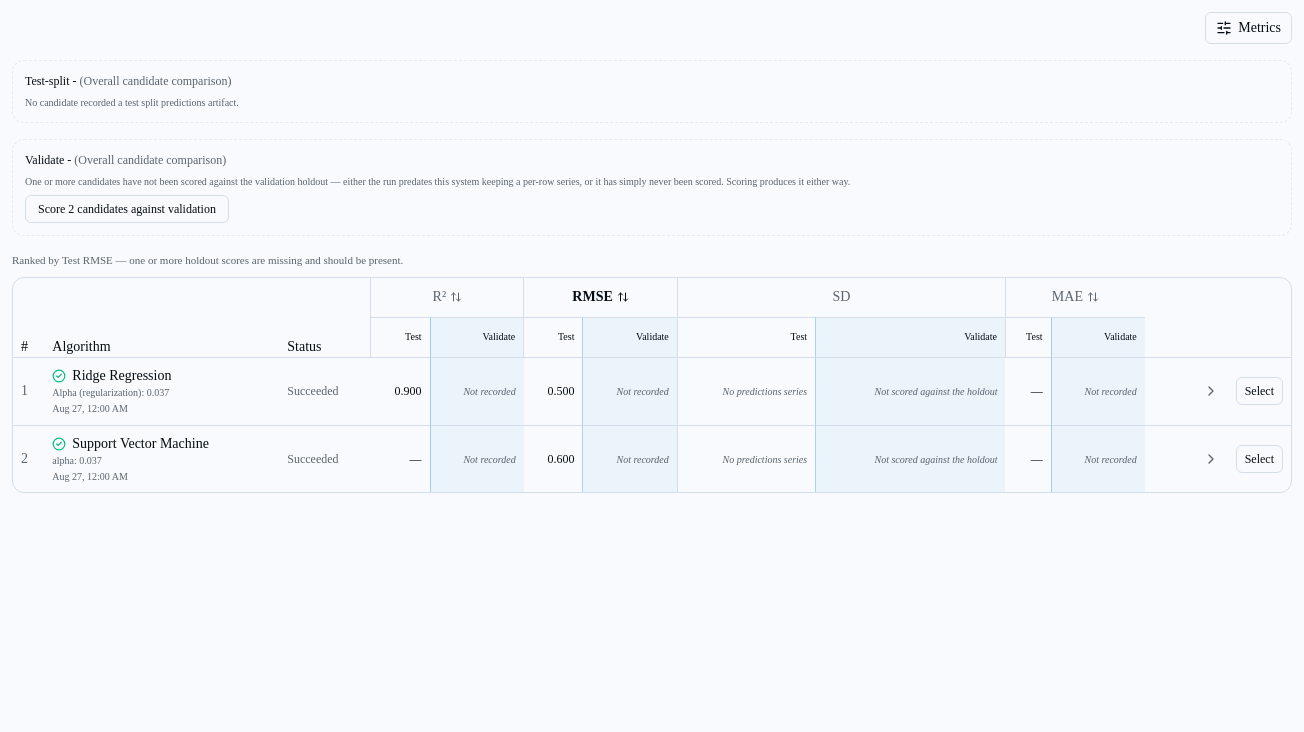
Test: Phase4ModelSelection — standalone comparison (MODEL-FLOW-018-T04) › surfaces the server refusal message rather than silently failing
This screenshot has width=1304, height=732.
Click the button "Select" in the row of "Ridge Regression".
click(1259, 391)  # box left=1236, top=377, right=1283, bottom=405
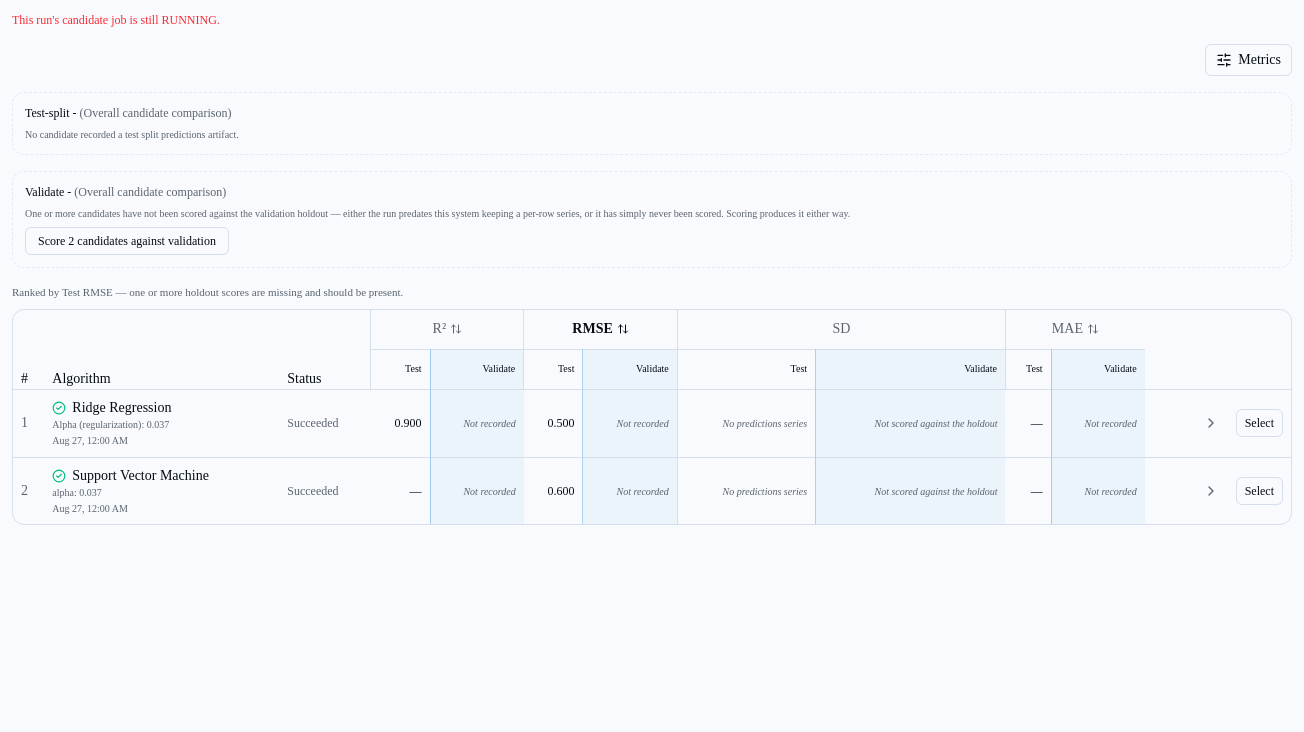
Check: the text "This run's candidate job is still RUNNING." is shown, box left=12, top=13, right=220, bottom=27
